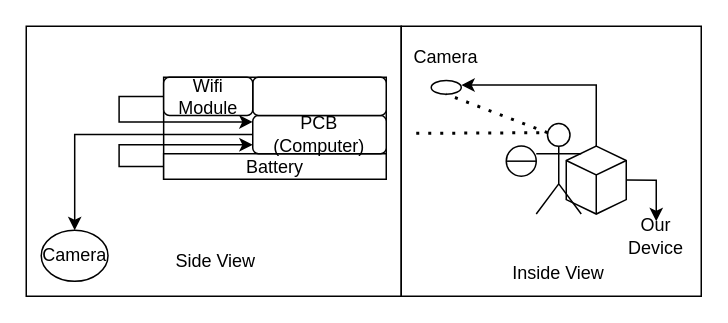
The diagram is 728 pixels wide and 323 high, and some of its shapes have lost their labels. Each missing label, with the centre of its shape:
"Driver" belongs at point 558,168.
"Fan" belongs at point 318,96.
